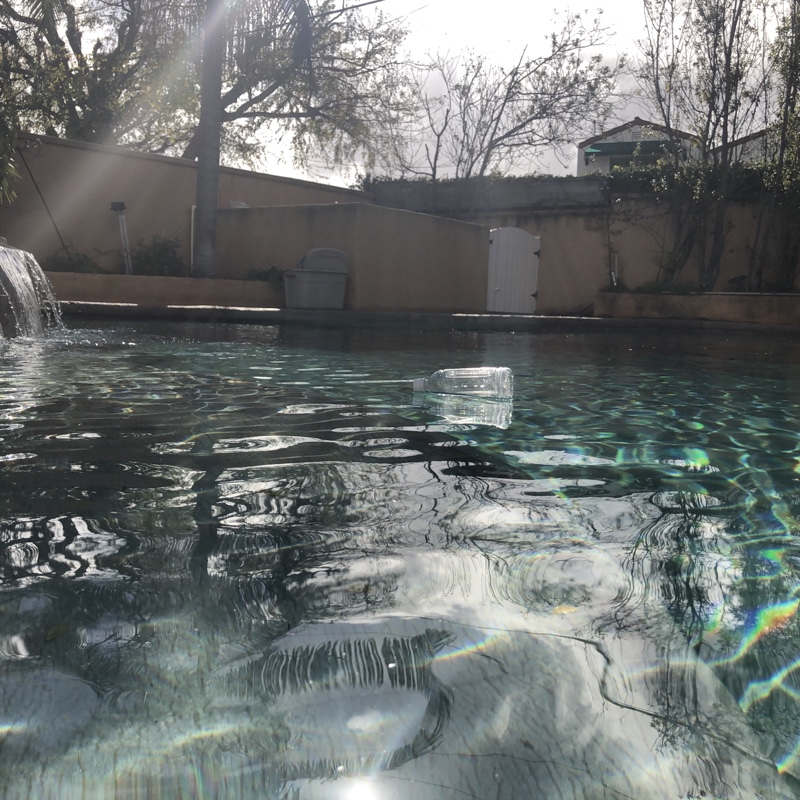Plastic Bottle: (405, 360, 517, 402)
